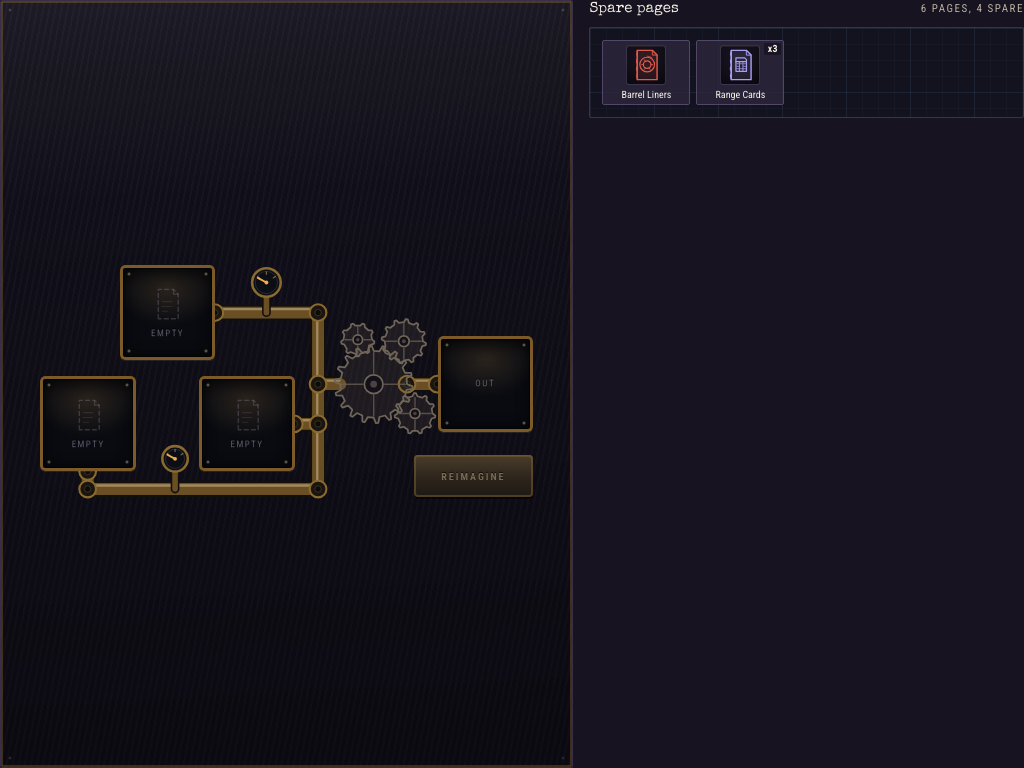
Test case: pressing it (§G2, §G3) › says why in words when the server refuses, and gives the pages back
The width and height of the screenshot is (1024, 768).
Expected: the element with test id "reimagine-machine" is shown, [0,0,573,767]
Click the button "Range Cards x3". click: (740, 73)
box: [696,40,784,105]
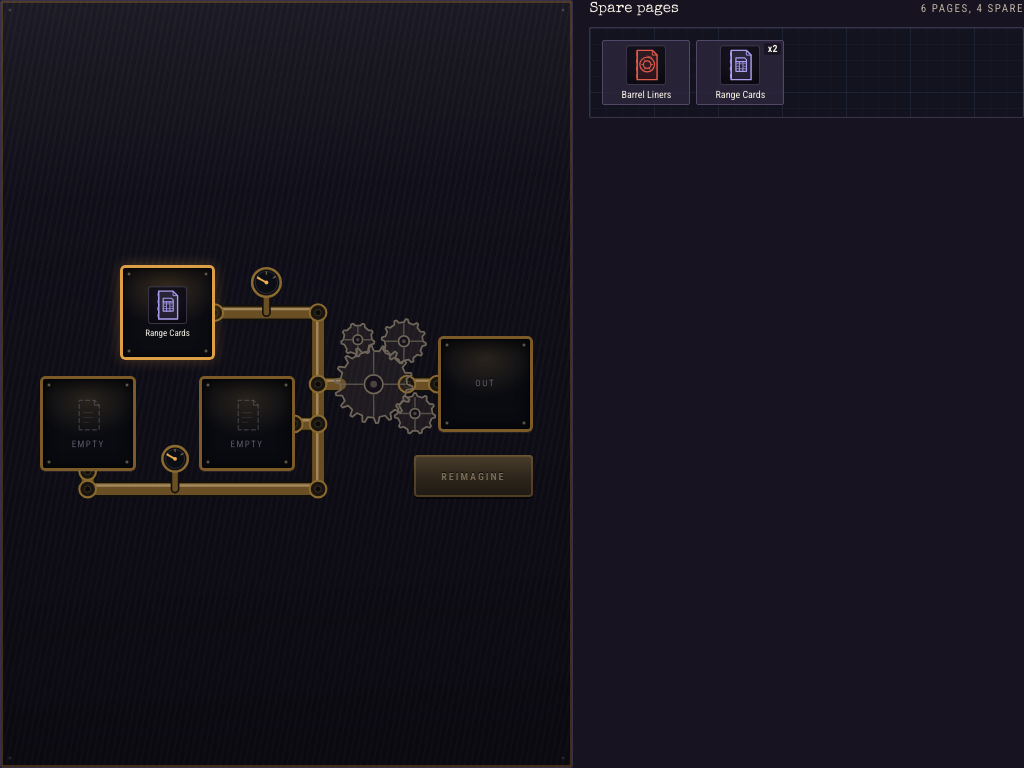
Click the button "Range Cards x2". click: (740, 73)
box: [696,40,784,105]
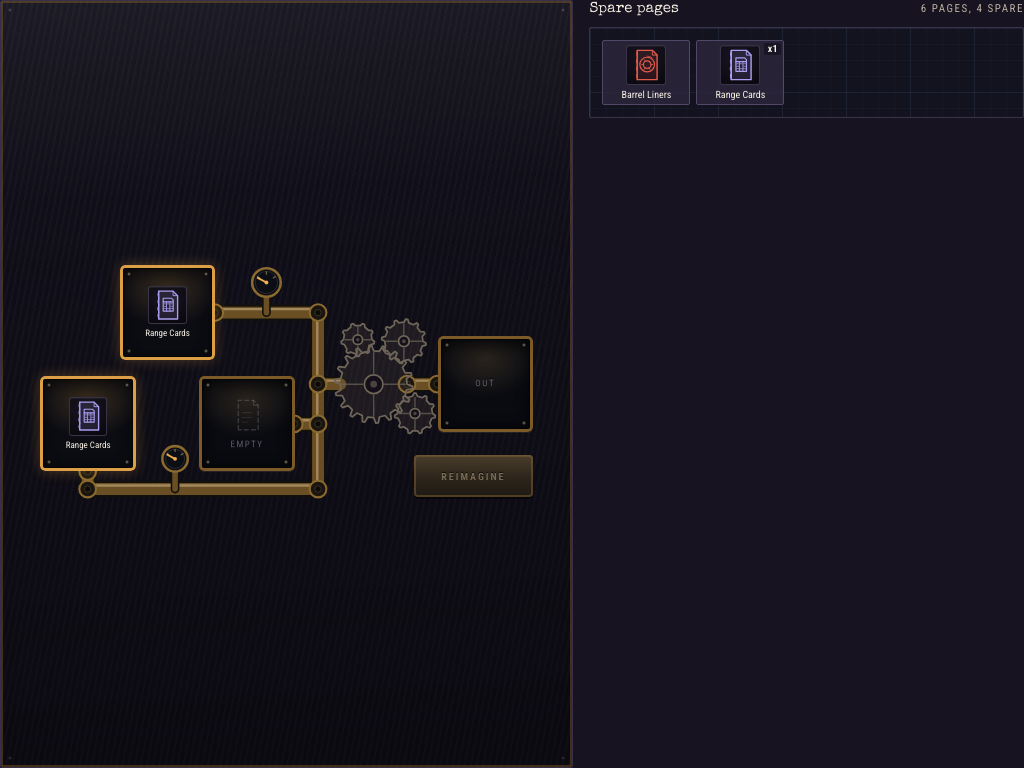
Click the button "Barrel Liners". click: (646, 73)
box: [602,40,690,105]
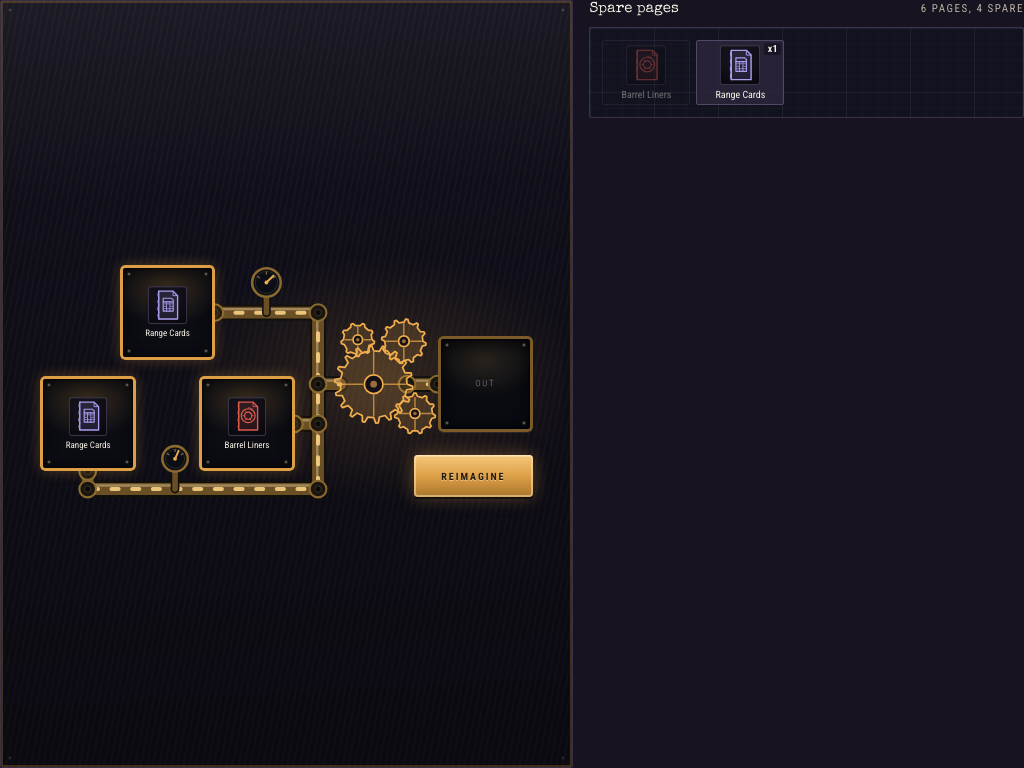
Click the button with test id "reimagine". click: (473, 476)
box: [414,456,533,497]
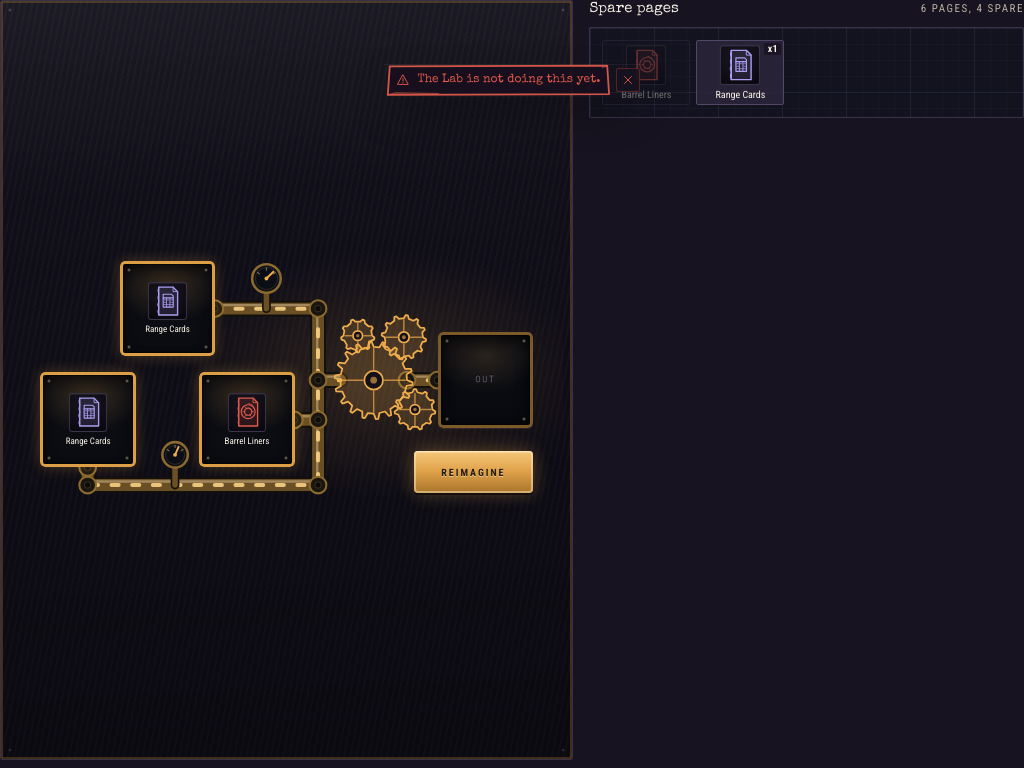
Expected: the message reads "The Lab is not doing this yet.", [418,74,600,86]
